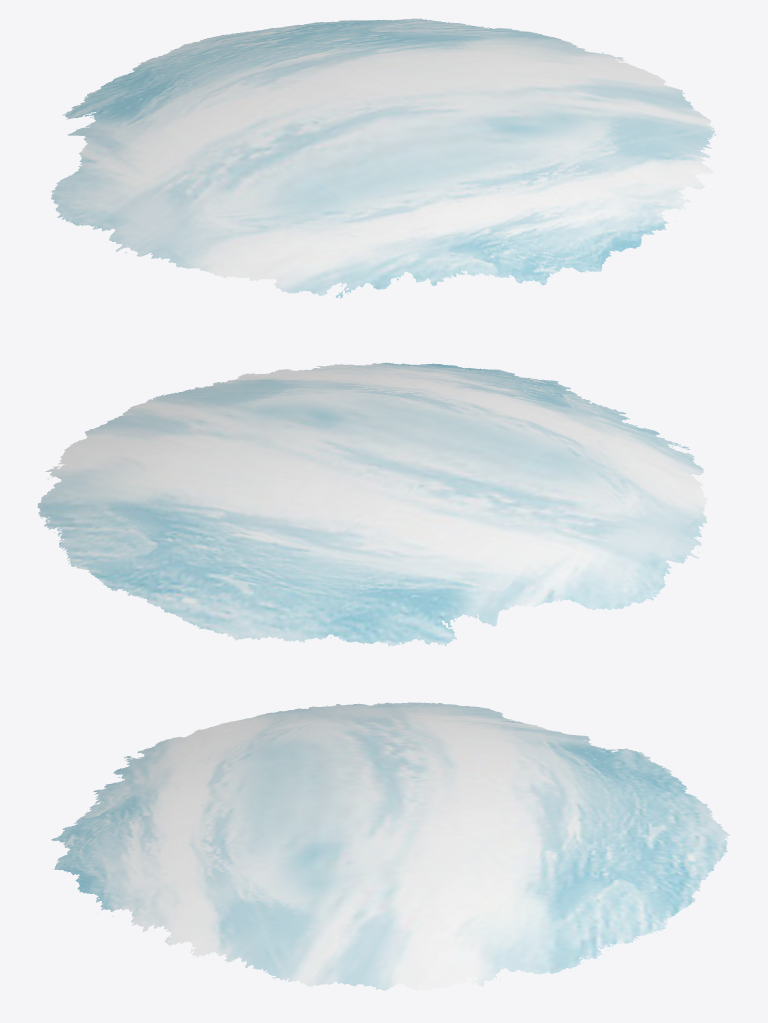
Rendered from cloud2.fbx.
The picture shows the model from 3 angles, top to bottom: view 1: azimuth 30°, elevation 25°; view 2: azimuth 150°, elevation 25°; view 3: azimuth 270°, elevation 25°; orthographic projection.
Parts seen in each view (by area): view 1: polySurface8; view 2: polySurface8; view 3: polySurface8.
Part boxes in pixels (x1,y1,x2,y2): polySurface8: (51,18,718,298); polySurface8: (37,362,707,646); polySurface8: (51,702,730,990).
Size of the model in its own units: 623 by 49 by 623.
1 material, 1 textured.
